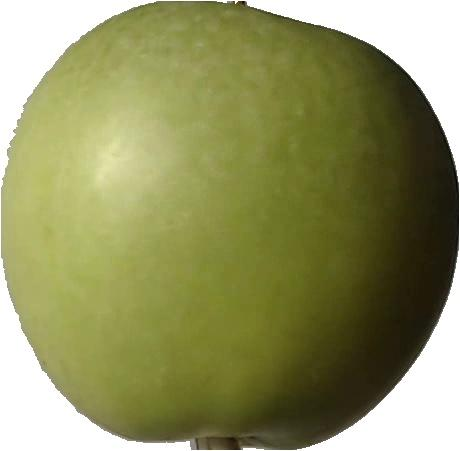Apple Unripe: (0, 0, 460, 431)
